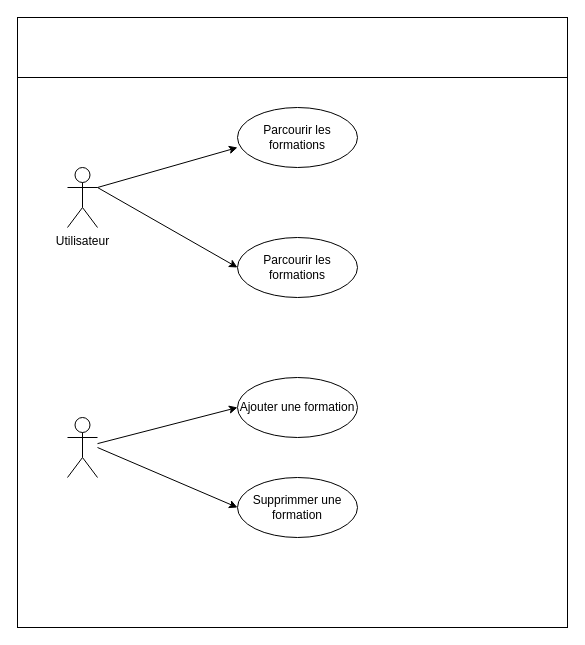
The diagram is 585 pixels wide and 645 high, and some of its shapes have lost their labels. The centre of each missing label's shape, as x and y in pixels:
"Administrateur" goes at (x=82, y=447).
"Application d'achat de formation" goes at (x=292, y=47).
